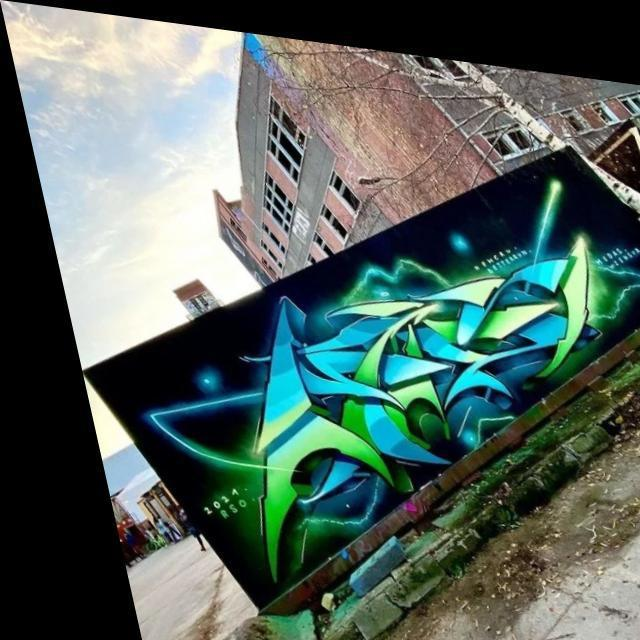-: (147, 91, 640, 640), (153, 467, 239, 531), (452, 215, 530, 272), (582, 215, 638, 262)
